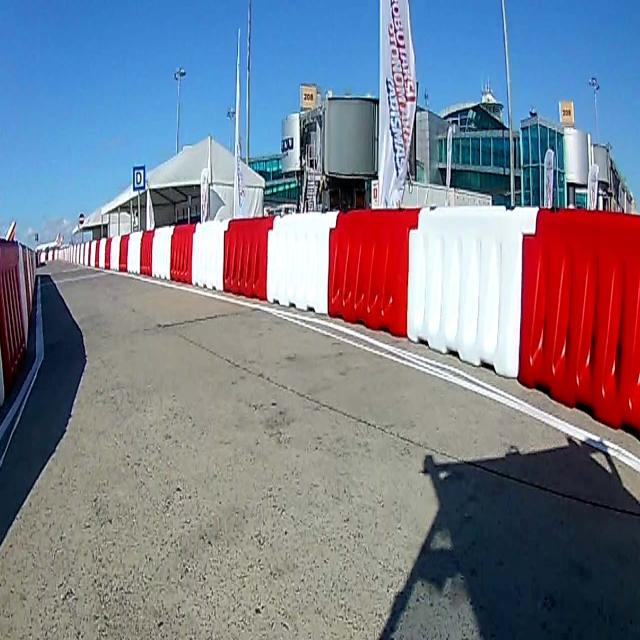durak: (133, 165, 146, 191)
